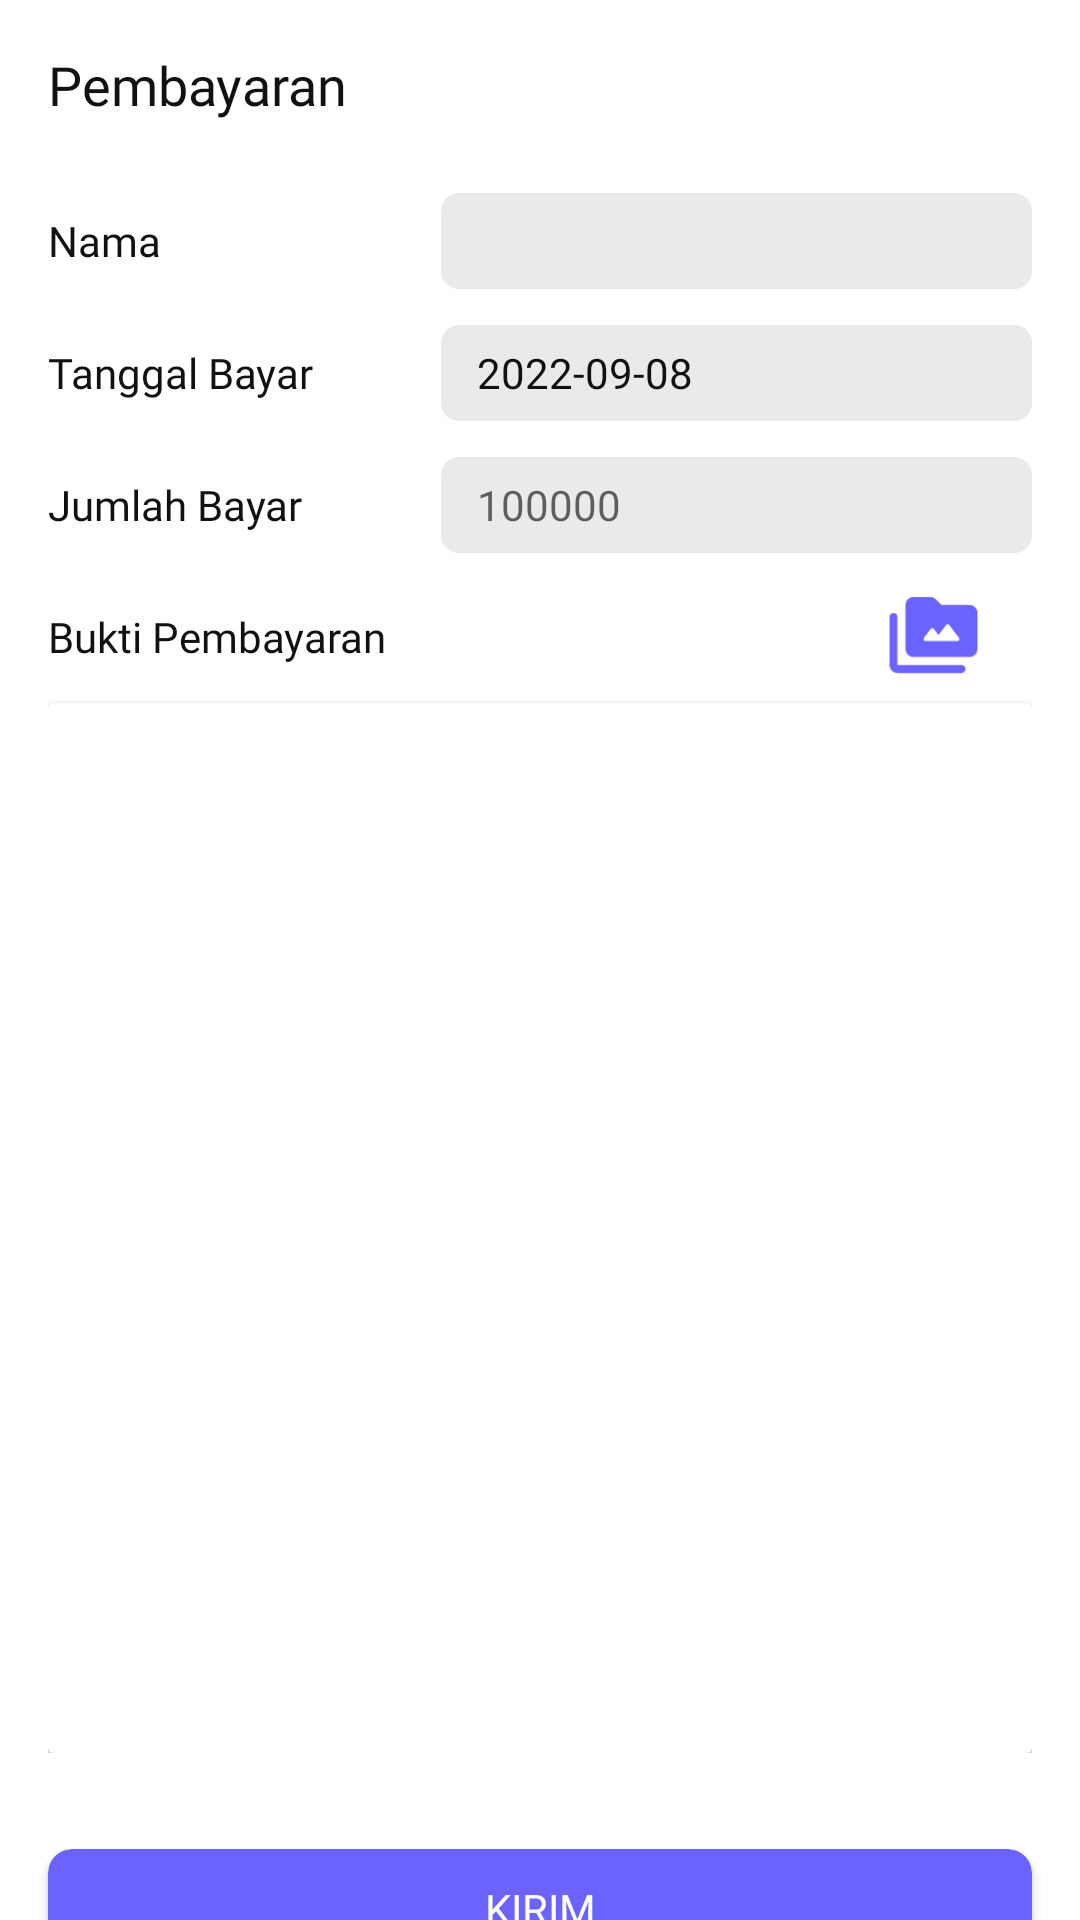

Screen size 1080 x 1920. Icon name, then its center in pixels as (x,y):
sic media: (933,635)
